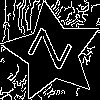Z: (27, 27, 82, 76)
